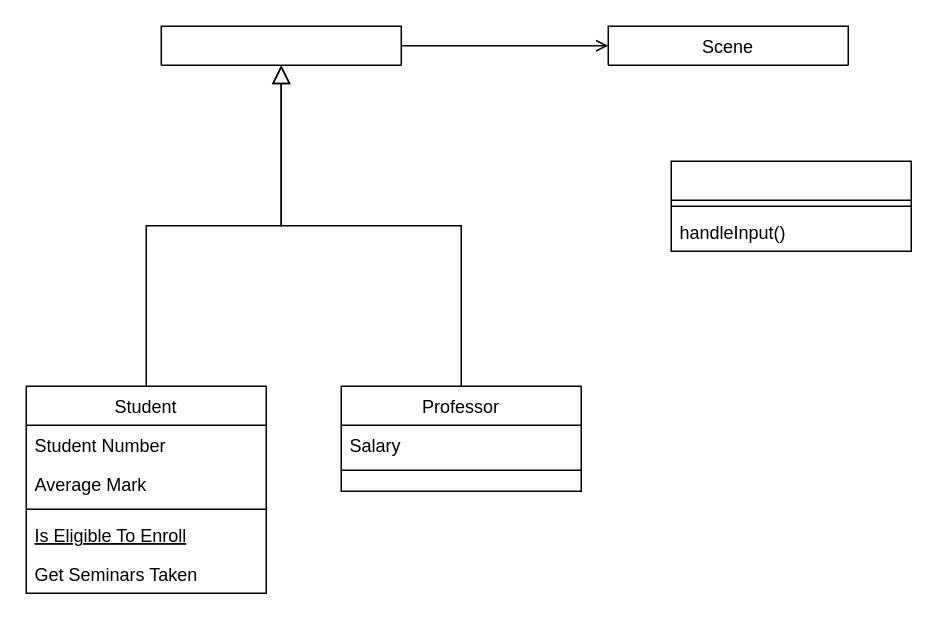
This 938x624 diagram has some shape labels left out. Here are the shapes that lost their labels. From the top down, the box of each, then its label:
(160, 25, 401, 65): Game
(670, 160, 911, 251): InputManager
